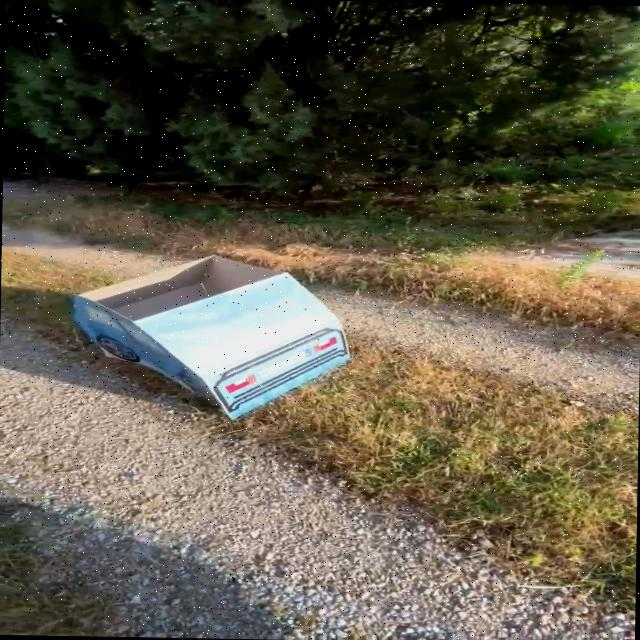blue_car: (41, 239, 403, 445)
